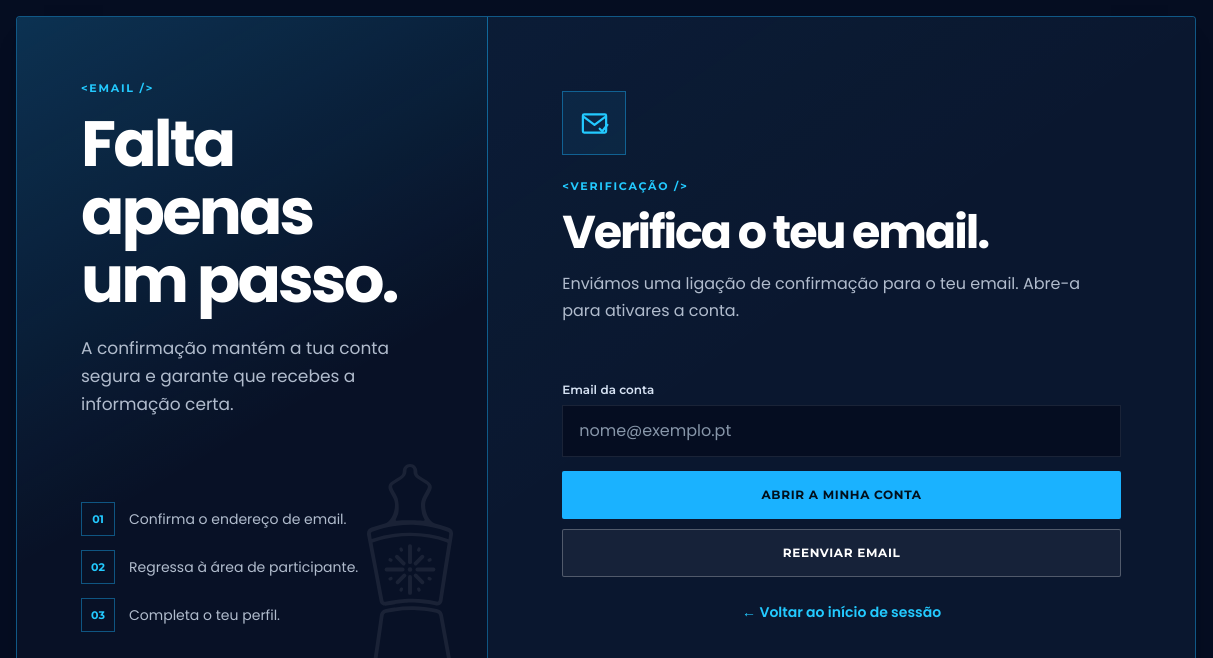
Test: Verificar email (reenvio): estados comuns › 5xx: erro do servidor sem apagar o que se escreveu
The image size is (1213, 658).
Type "ana@example.com" into the field labelled "Email da conta" at [842, 431], box [562,405,1121,457]
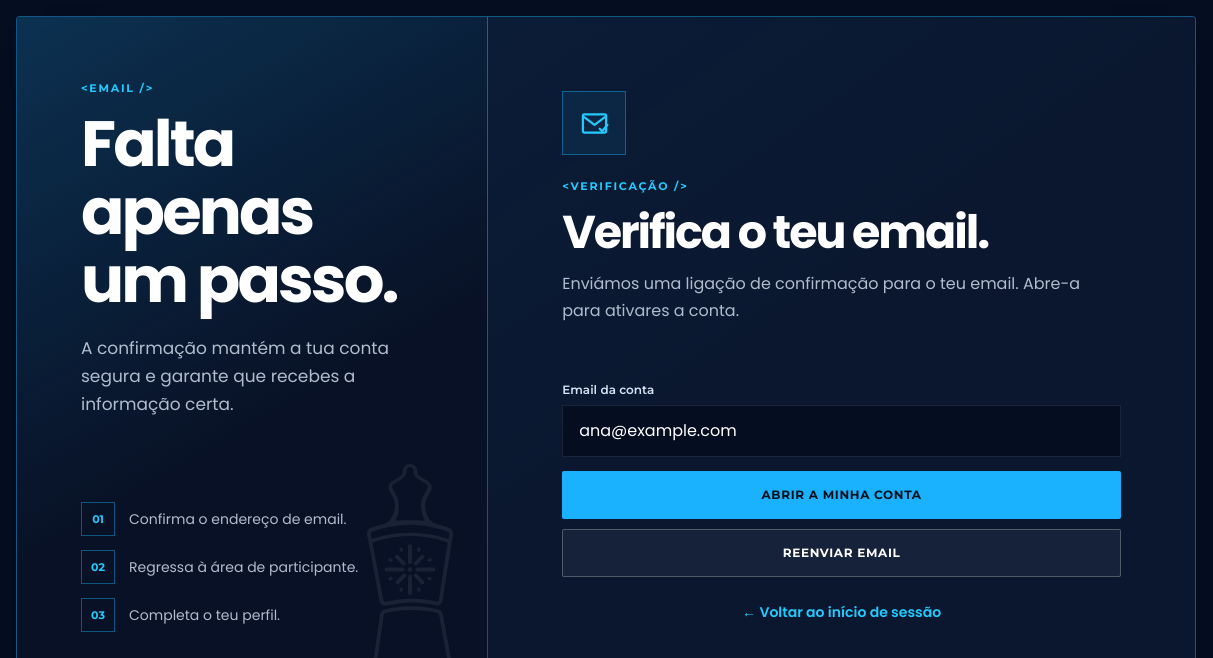
Click the button "Reenviar email" at [842, 553], box [562,529,1121,577]
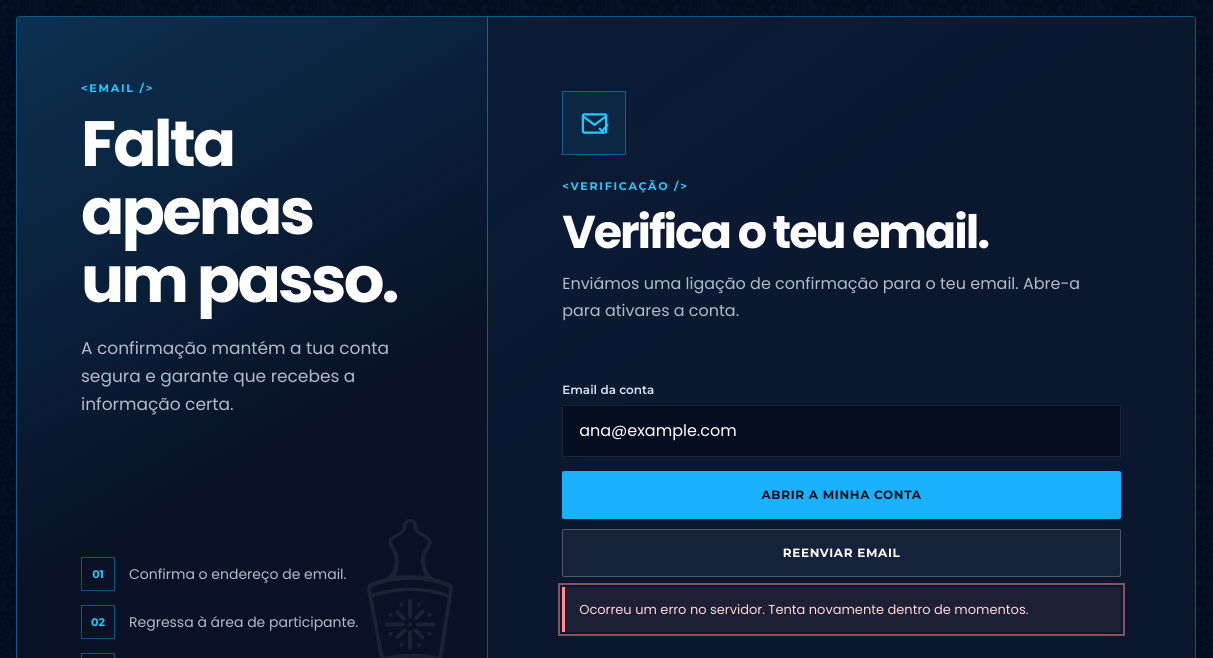
Expected: the message "Ocorreu um erro no servidor. Tenta novamente dentro de momentos." is shown, [562,587,1121,632]
